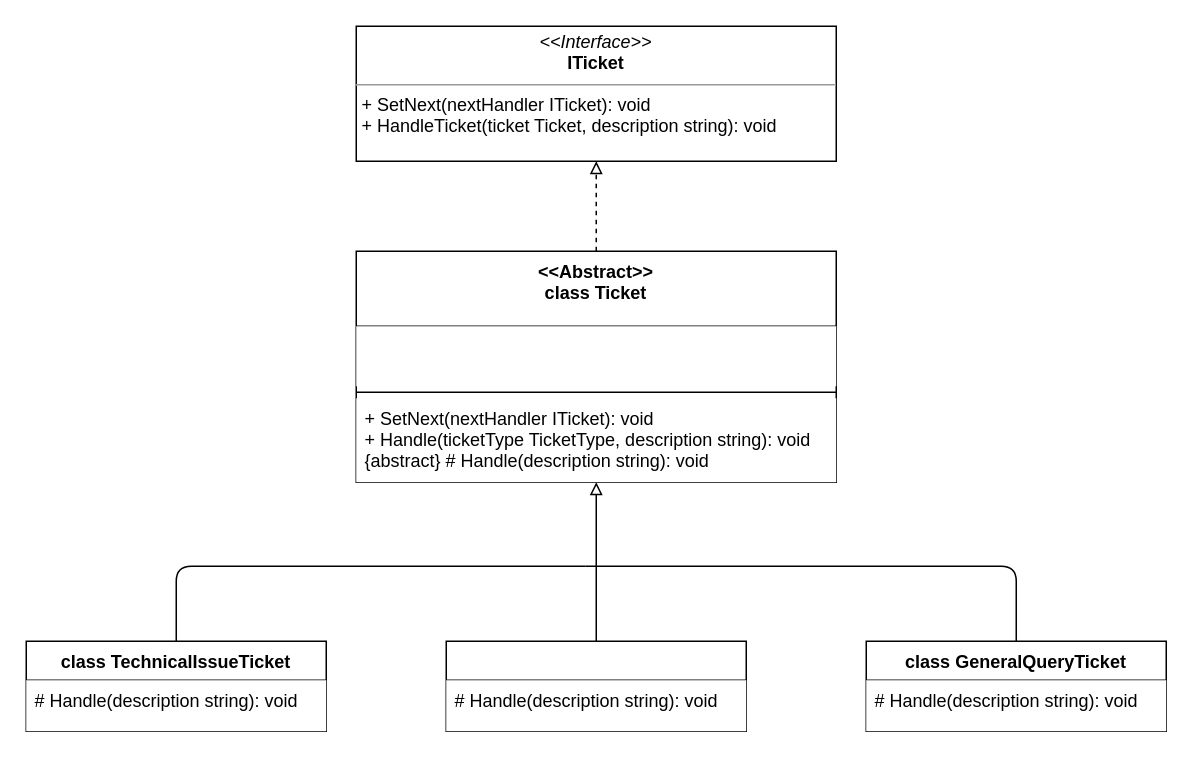
Some shapes in this 1193 by 762 pixel diagram are drawn without their labels. The shapes that lost their labels are listed below. From the top down, each one's box as (x1, y1, x2, y2) in pixels, then its label:
(356, 326, 836, 386): # ticketType TicketType - _nextHandler: ITicket
(445, 640, 746, 731): class BillingQueryTicket
